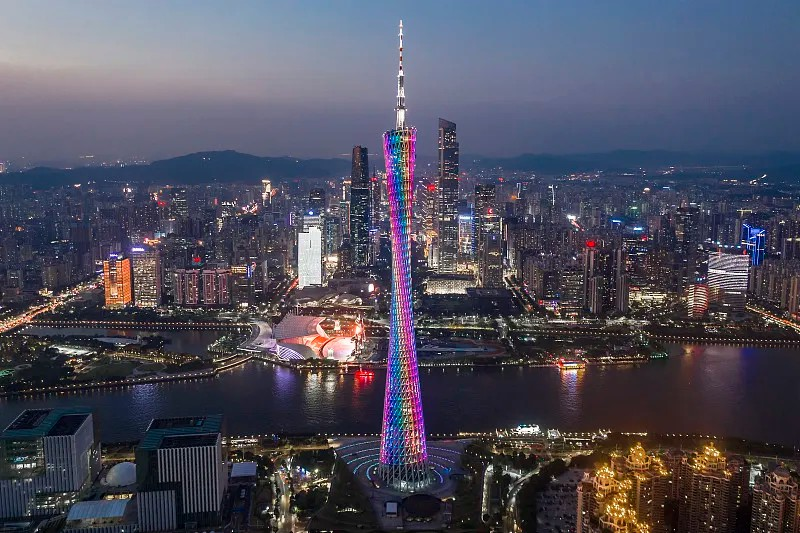Canton: (381, 17, 434, 486)
